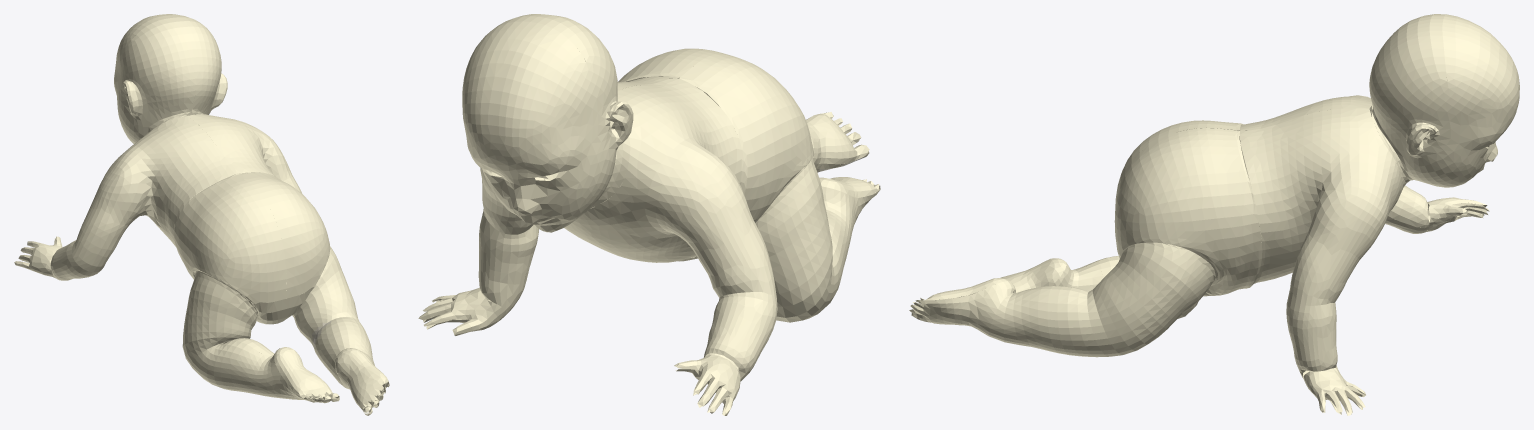
Rendered from baby.dae.
3 views of the same model, side by side, from view 1: azimuth 30°, elevation 25°; view 2: azimuth 150°, elevation 25°; view 3: azimuth 270°, elevation 25° (orthographic). The views are drawn at different scales.
Parts seen in each view (by area): view 1: baby; view 2: baby; view 3: baby.
Boxes of the visible parts, x1=… form: baby: x1=14, y1=14, x2=389, y2=415; baby: x1=418, y1=14, x2=880, y2=415; baby: x1=909, y1=14, x2=1519, y2=415.
Bounding box in the file's own units: 0.5079 × 0.8223 × 0.4964.
